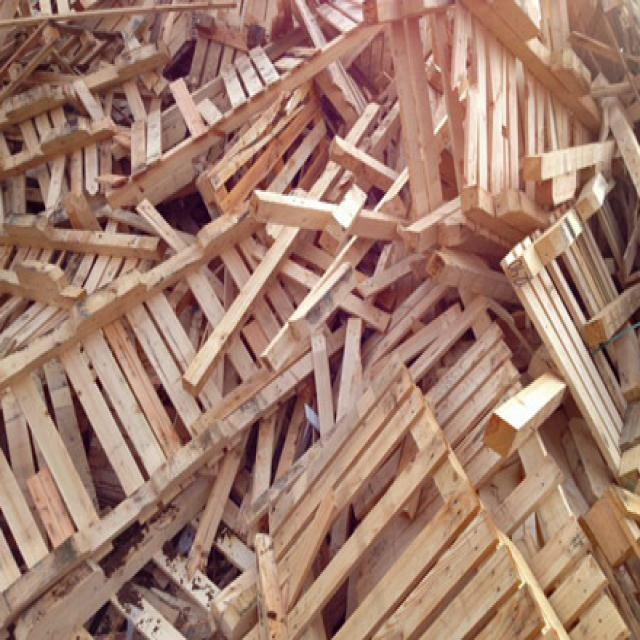green waste: (0, 3, 637, 637)
